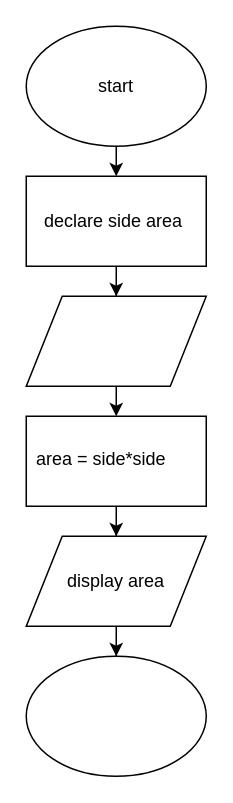
Some shapes in this 233 by 803 pixel diagram are drawn without their labels. The shapes that lost their labels are listed below. From the top down, each one's centre as x and y in pixels, then its label:
point 115,340: read side
point 115,715: stop
